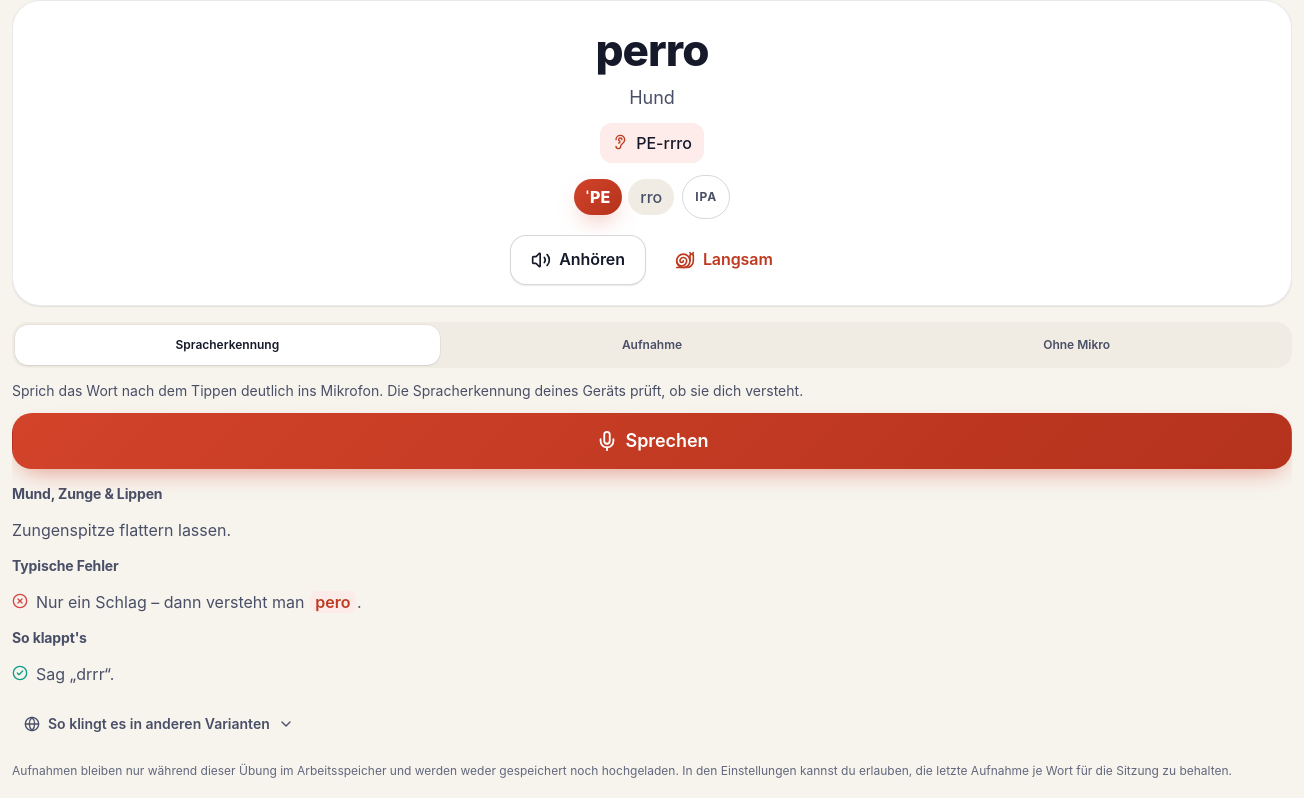
Test case: PronPractice › zeigt Wort, Silben mit Betonung, IPA-Umschalter und eine Startaktion
The image size is (1304, 798).
Expected: the text "perro" is shown, x1=595 y1=25 x2=709 y2=76
Click the button "IPA".
click(706, 197)  # box x1=682 y1=175 x2=730 y2=219
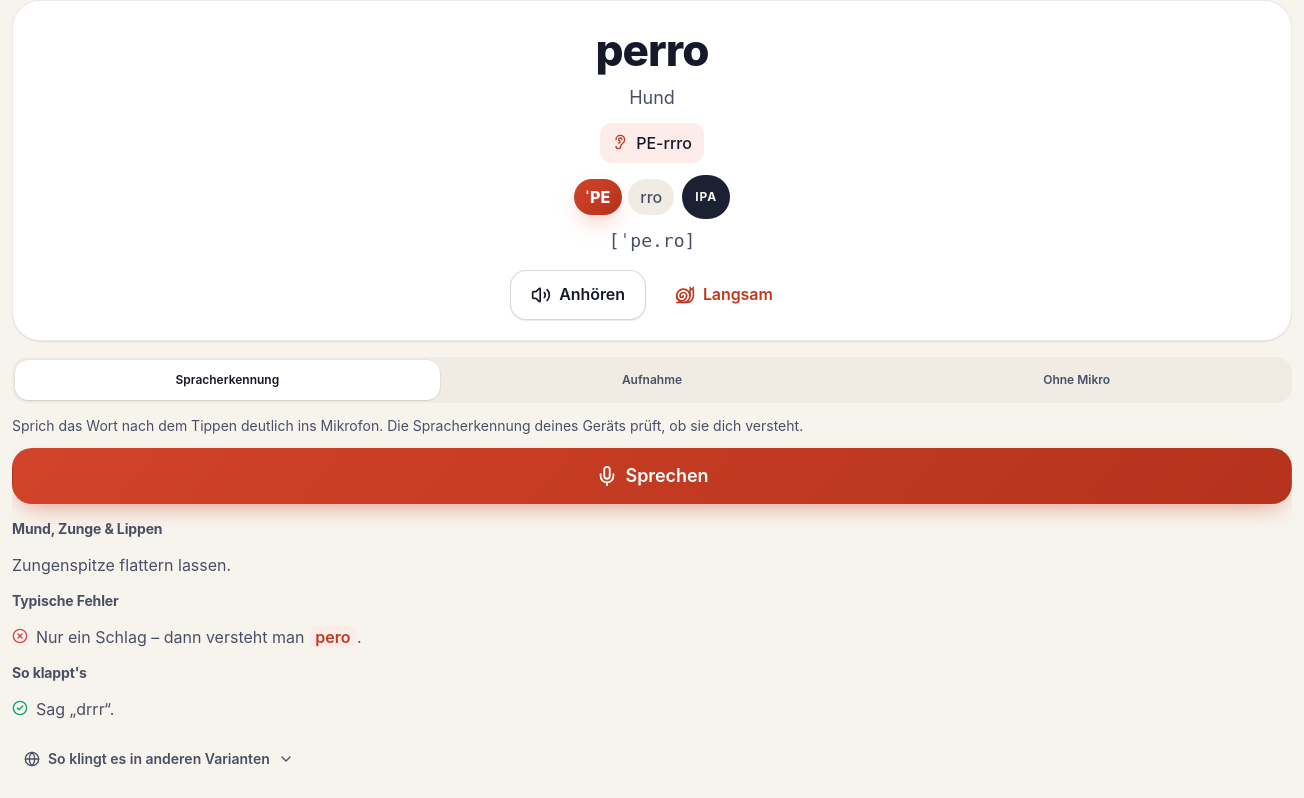
Expected: the button "Sprechen" is shown, x1=12 y1=448 x2=1292 y2=504
Now the text "[ˈpe.ro]" is shown, box x1=609 y1=227 x2=695 y2=254
